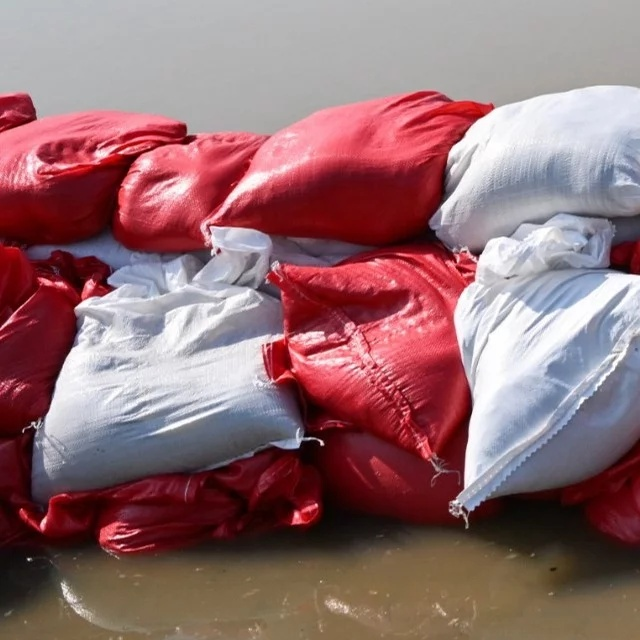sandbag: (33, 259, 301, 501), (451, 214, 640, 517), (210, 92, 492, 246), (274, 244, 476, 458), (431, 86, 640, 250), (0, 112, 188, 241), (114, 133, 268, 251), (0, 272, 80, 436), (322, 432, 464, 524)
